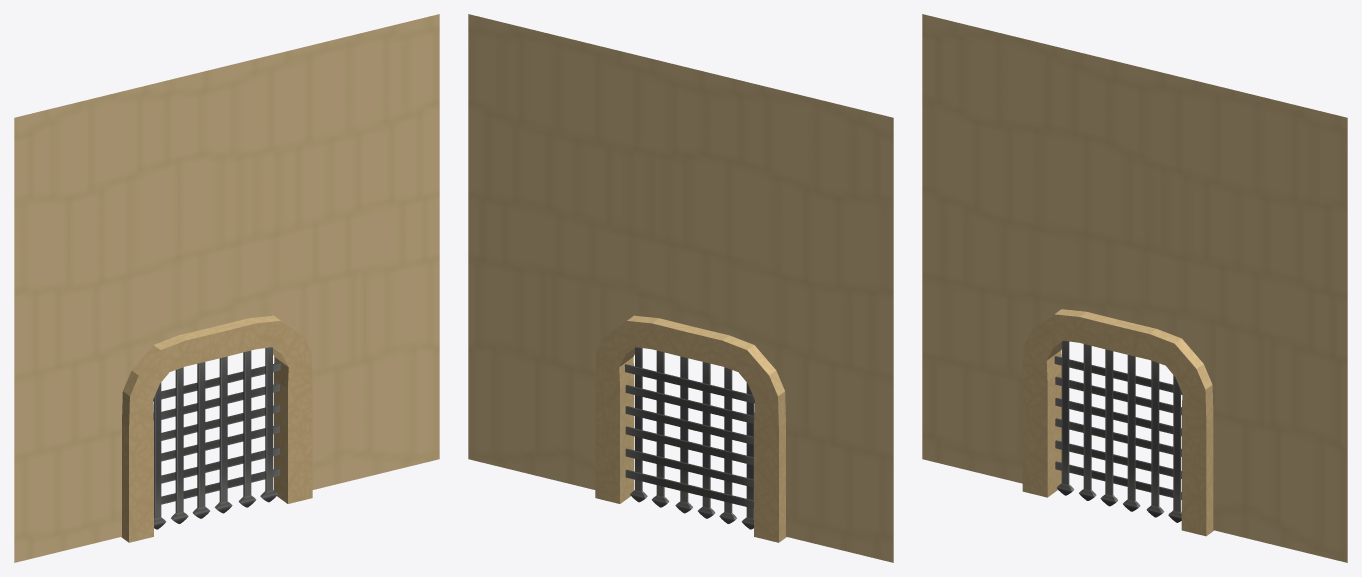
Rendered from portao montado.fbx.
The picture shows the model from 3 angles, left to right: view 1: azimuth 30°, elevation 25°; view 2: azimuth 150°, elevation 25°; view 3: azimuth 330°, elevation 25°; orthographic projection.
Parts seen in each view (by area): view 1: Plane, Cube, Cube.011; view 2: Plane, Cube, Cube.011; view 3: Plane, Cube, Cube.011.
Part boxes in pixels (x1,y1,x2,y2): Plane: (14,14,439,562); Cube: (121,315,312,542); Cube.011: (153,347,280,529); Plane: (468,14,893,562); Cube: (595,315,786,542); Cube.011: (624,347,754,529); Plane: (922,14,1347,562); Cube: (1022,309,1213,536); Cube.011: (1054,340,1182,522).
Size of the model in its own units: 770 by 773 by 44.82.
14 materials, 14 textured.
